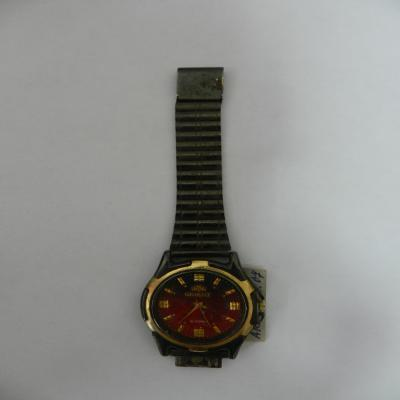technique: (140, 67, 264, 369)
